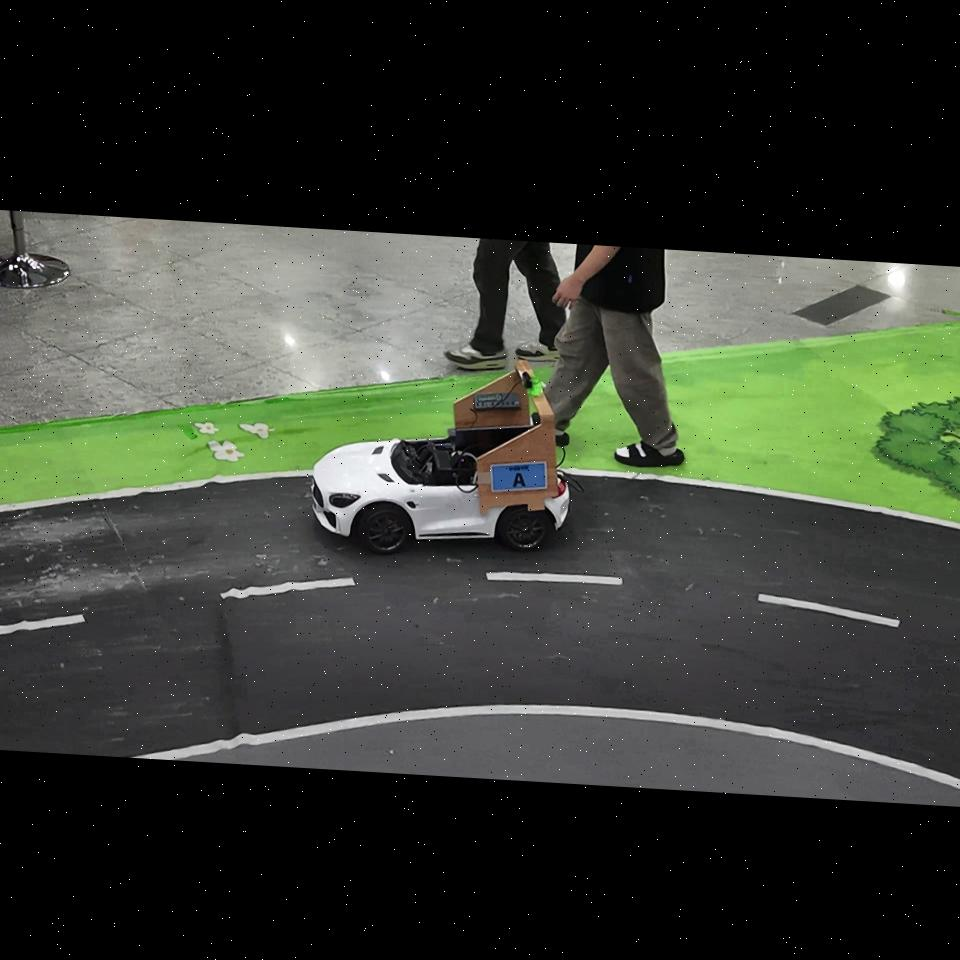broken_line: (758, 593, 901, 627), (220, 577, 356, 599), (486, 572, 623, 585), (0, 614, 85, 634)
